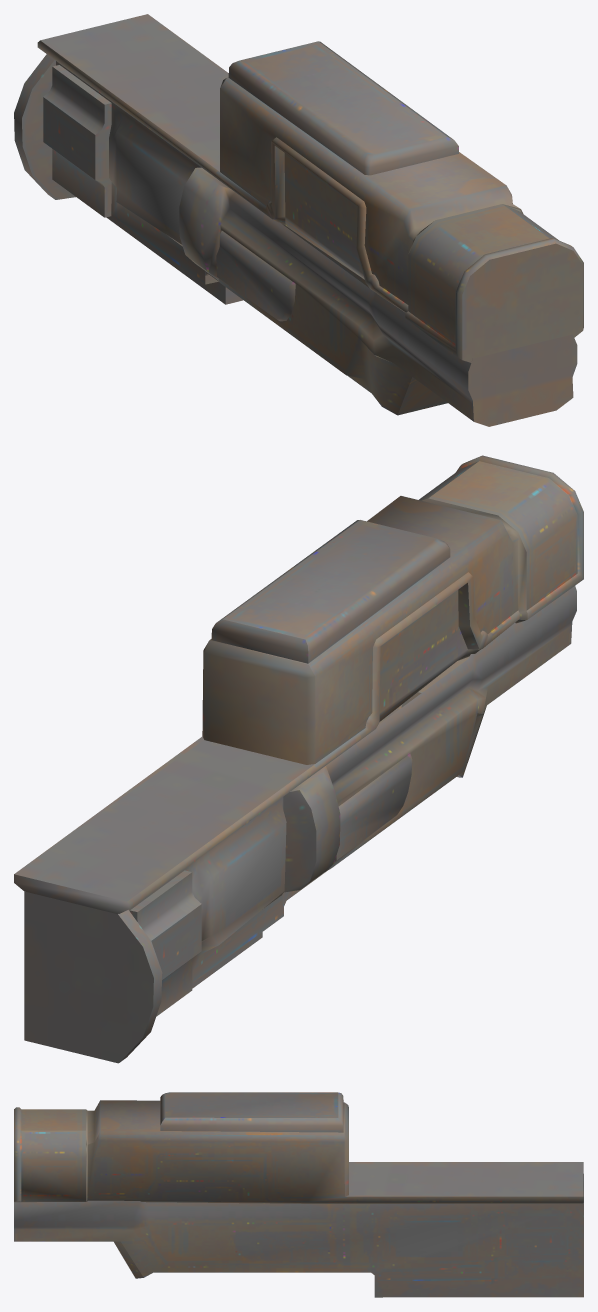
The model's file is body3.obj.
The picture shows the model from 3 angles, top to bottom: view 1: azimuth 30°, elevation 25°; view 2: azimuth 150°, elevation 25°; view 3: azimuth 270°, elevation 25°; orthographic projection. The views are drawn at different scales.
Visible parts, largest first — view 1: body3; view 2: body3; view 3: body3.
Part boxes in pixels (left/top/right/bottom): body3: left=14, top=14, right=583, bottom=426; body3: left=14, top=455, right=583, bottom=1063; body3: left=14, top=1092, right=583, bottom=1297.
Size of the model in its own units: 10.46 by 18.74 by 54.46.
